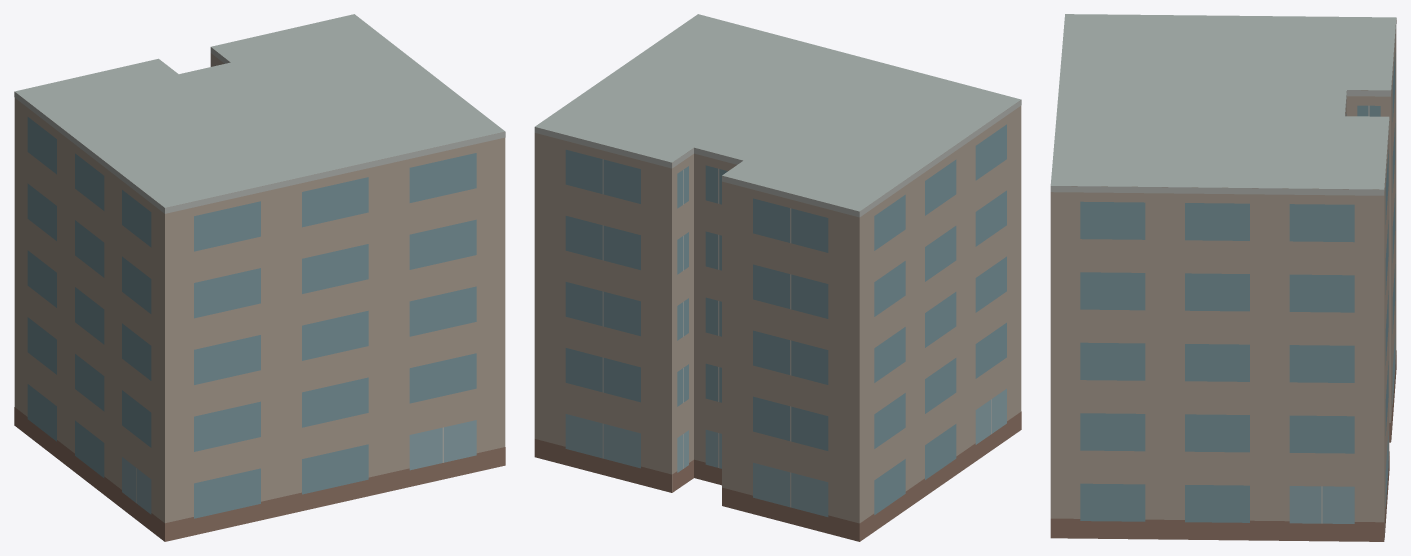
File: survey-upis-32984630.glb
3 views of the same model, side by side, from view 1: azimuth 30°, elevation 25°; view 2: azimuth 150°, elevation 25°; view 3: azimuth 270°, elevation 25° (orthographic). The views are drawn at different scales.
Parts seen in each view (by area): view 1: survey-upis-32984630.tmp; view 2: survey-upis-32984630.tmp; view 3: survey-upis-32984630.tmp.
Part boxes in pixels (left/top/right/bottom): survey-upis-32984630.tmp: left=14, top=14, right=505, bottom=541; survey-upis-32984630.tmp: left=534, top=14, right=1021, bottom=541; survey-upis-32984630.tmp: left=1050, top=14, right=1396, bottom=541.
Size of the model in its own units: 14.59 by 13.65 by 12.15.
